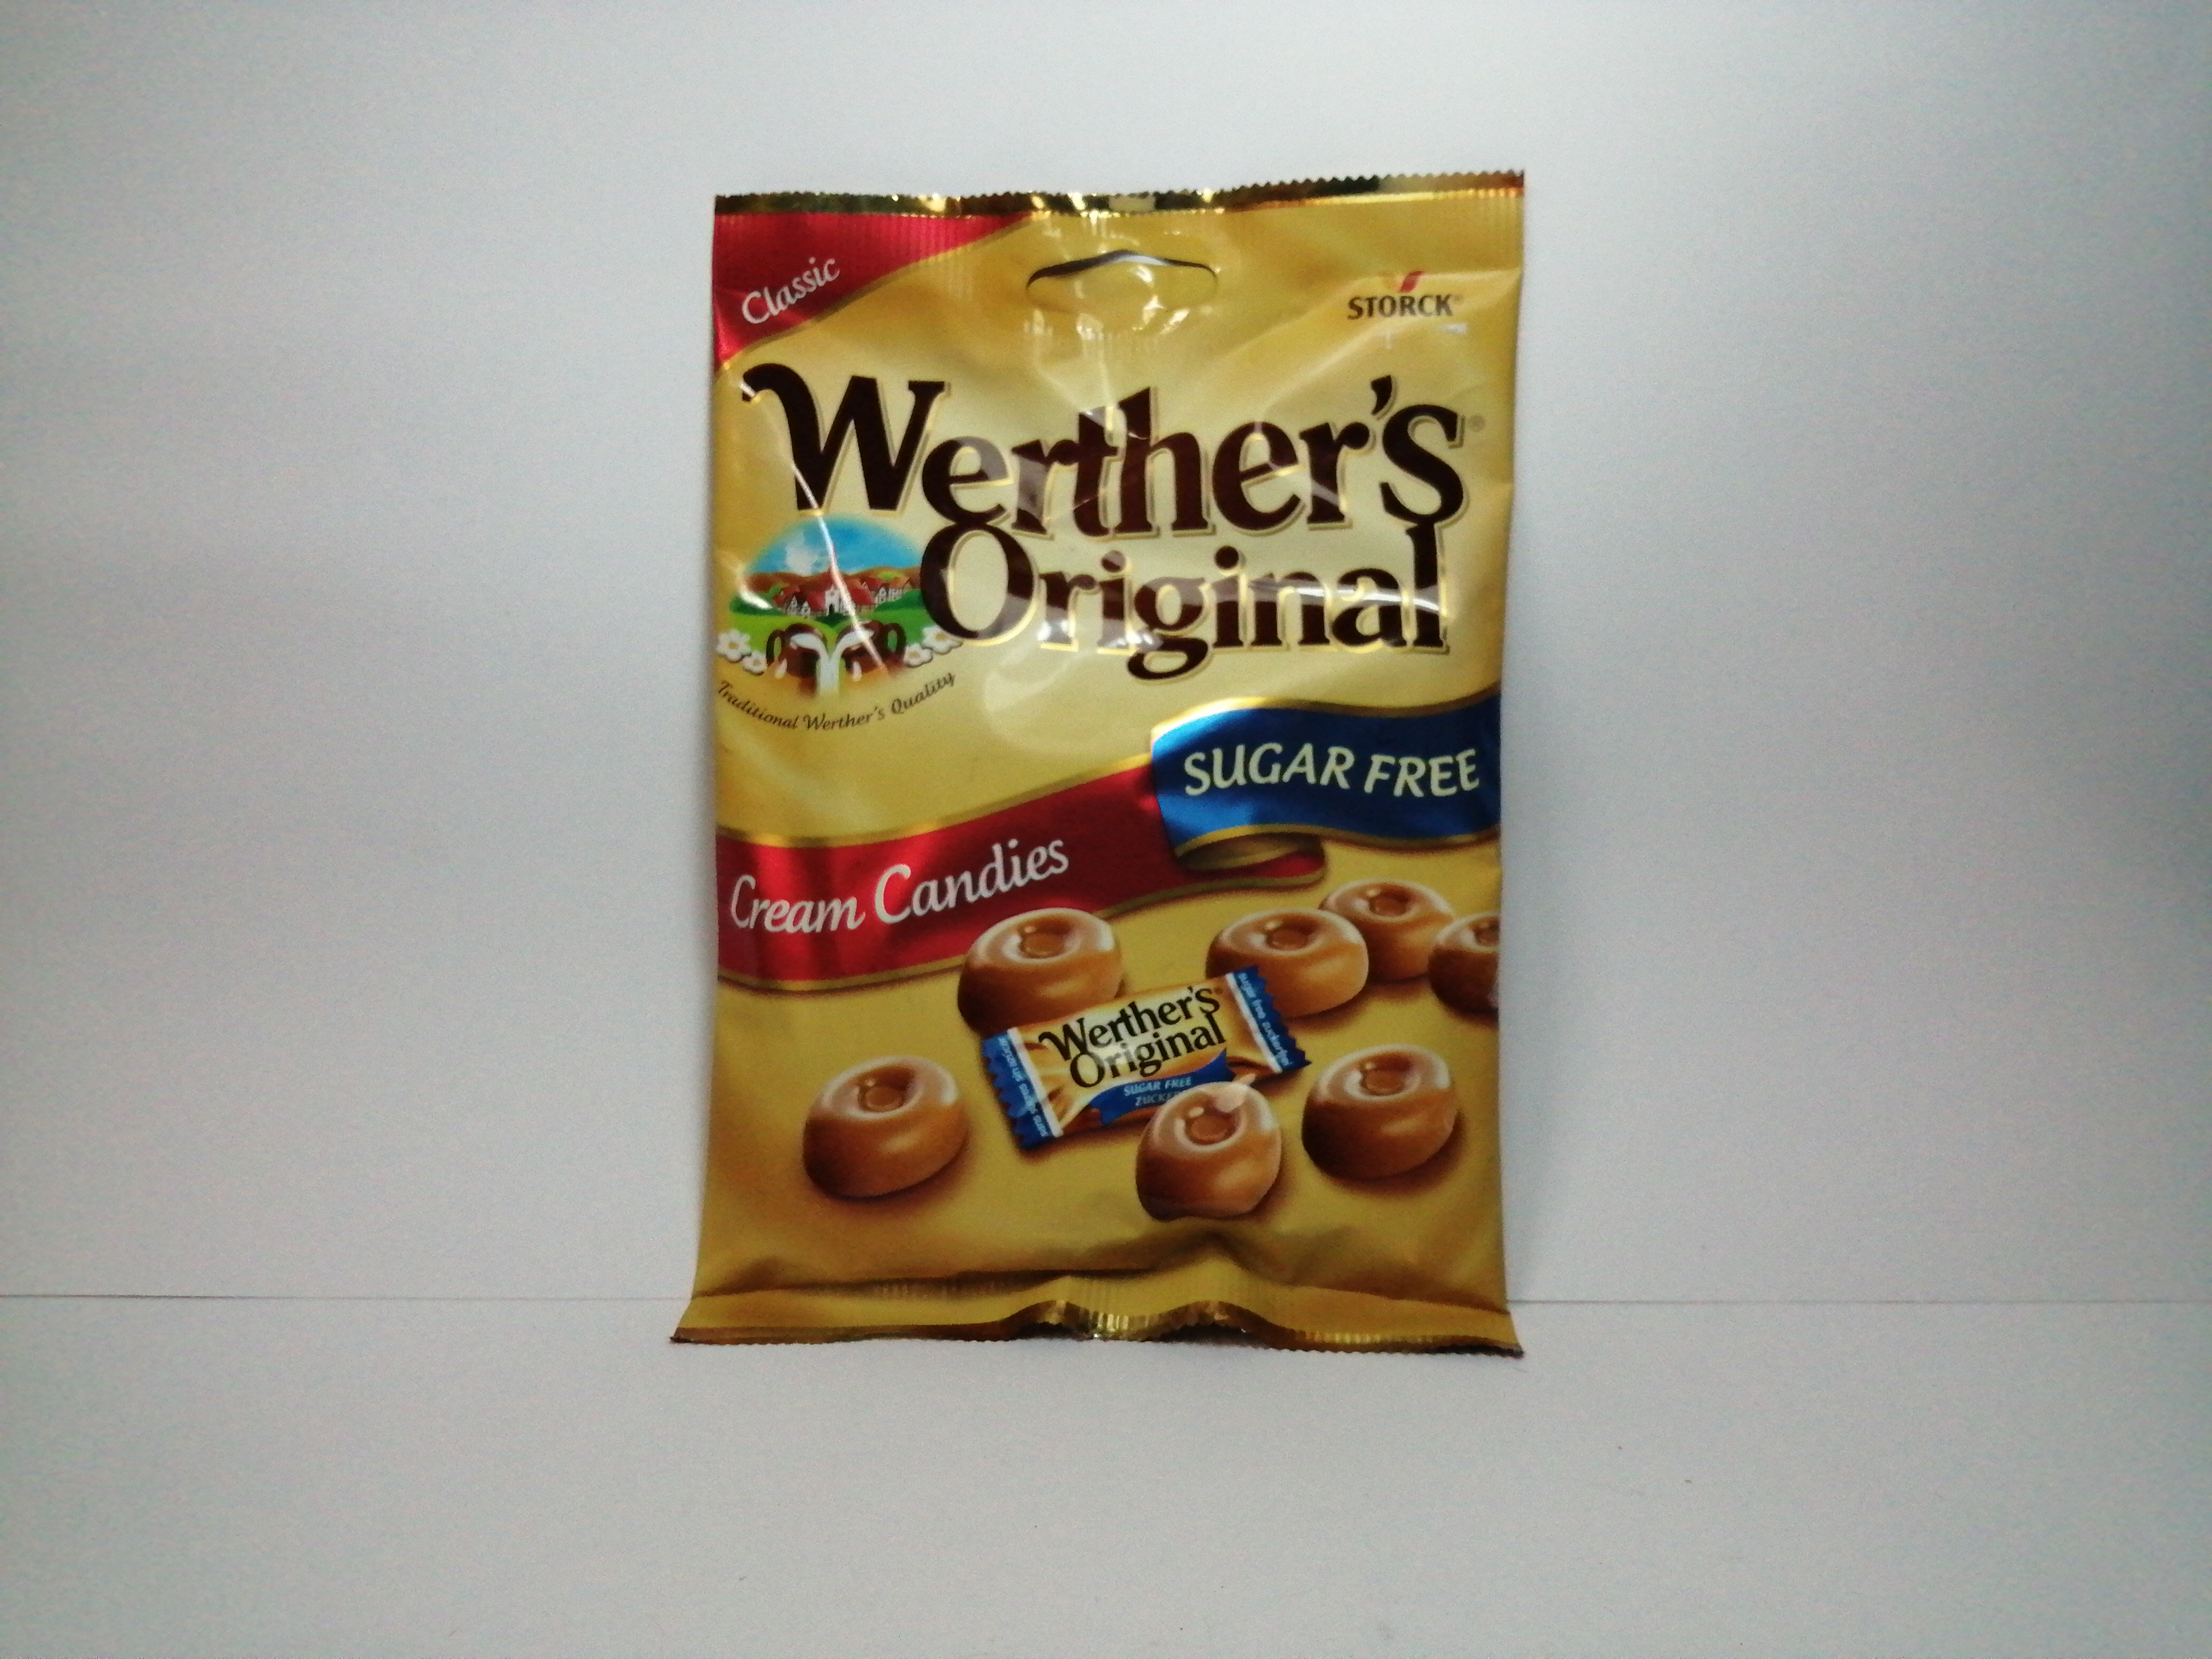dulces: (679, 190, 1526, 1351)
